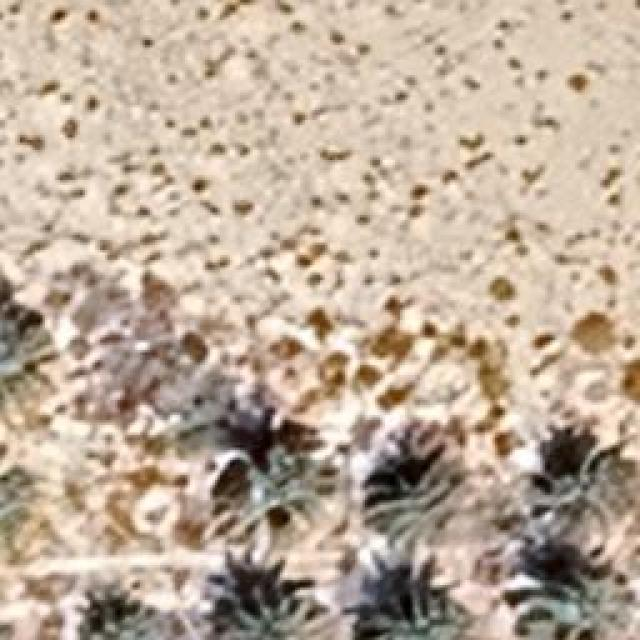PalmTree: (91, 75, 411, 602), (20, 93, 91, 497), (225, 440, 340, 550), (358, 434, 478, 534), (528, 448, 638, 550), (504, 574, 638, 638), (75, 572, 203, 638), (0, 300, 60, 418), (220, 590, 338, 638)
